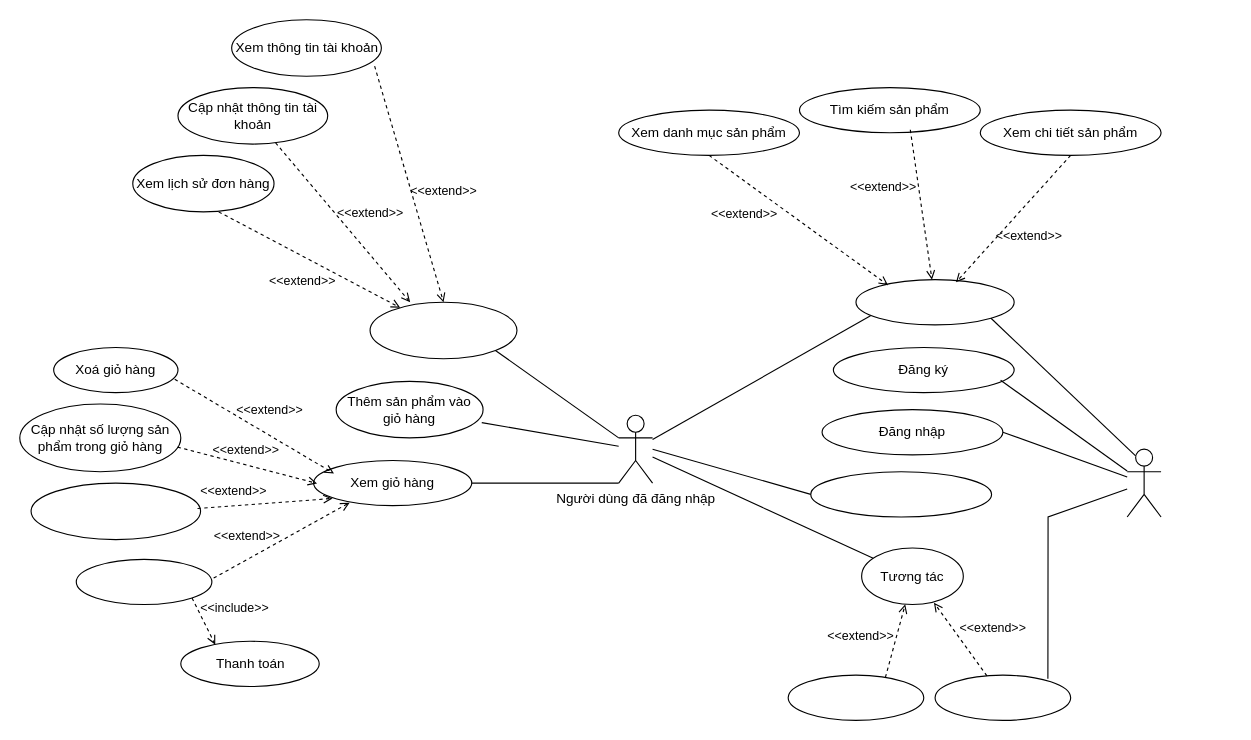
The diagram is 1251 pixels wide and 740 high, and some of its shapes have lost their labels. Each missing label, with the box of its shape:
Chức năng cơ bản: (855, 279, 1014, 325)
Người dùng chưa đăng nhập: (1126, 448, 1161, 517)
Quản lý tài khoản: (369, 301, 517, 359)
Viết đánh giá: (787, 674, 924, 720)
Xem đánh giá: (934, 674, 1071, 720)
Xóa sản phẩm khỏi giỏ hàng: (30, 482, 201, 540)
Đăng xuất: (810, 471, 992, 517)
Đặt hàng: (75, 558, 212, 605)
